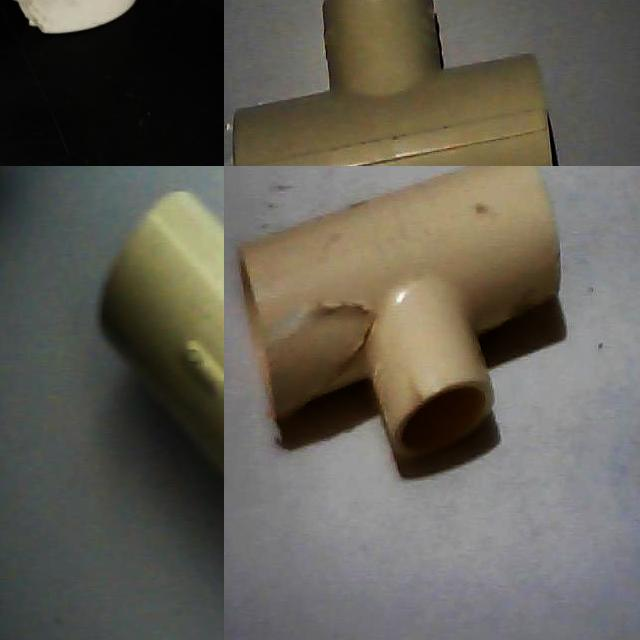Defective: (268, 270, 376, 408), (0, 0, 96, 37)
T Joint: (238, 166, 561, 458), (235, 0, 561, 166), (97, 191, 224, 483), (0, 0, 206, 43)
